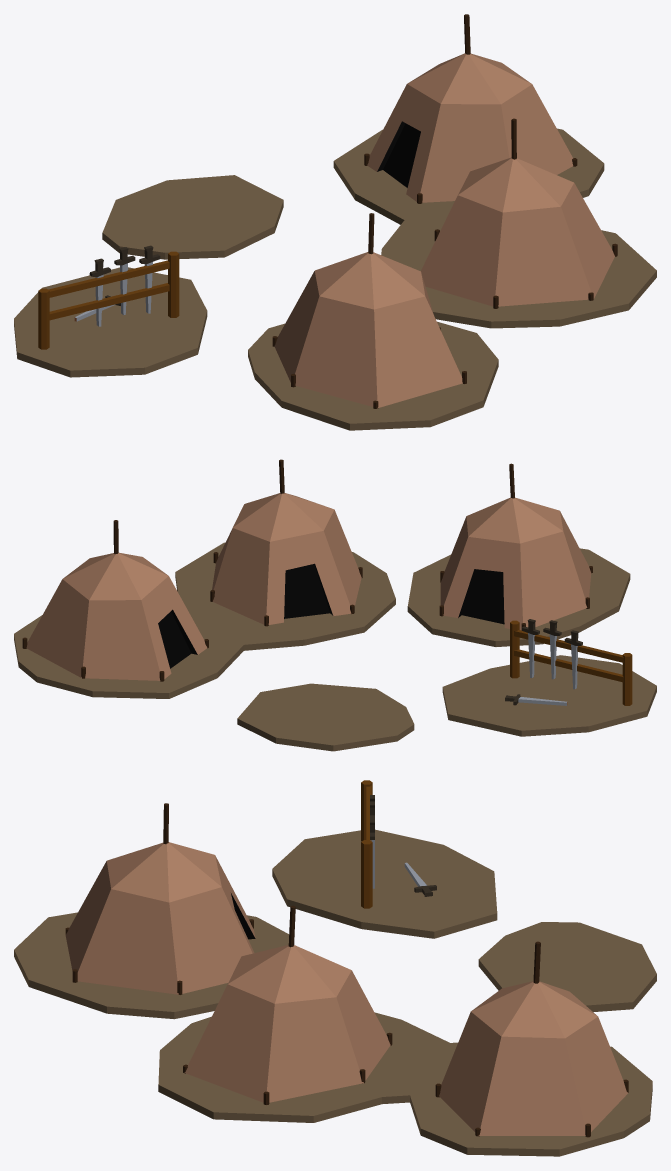
Rendered from BarracksFinal2.fbx.
The picture shows the model from 3 angles, top to bottom: view 1: azimuth 30°, elevation 25°; view 2: azimuth 150°, elevation 25°; view 3: azimuth 270°, elevation 25°; orthographic projection. The views are drawn at different scales.
Parts seen in each view (by area): view 1: Plane.005; view 2: Plane.005; view 3: Plane.005.
Part boxes in pixels (bbox=[...]): Plane.005: bbox=[14, 14, 656, 430]; Plane.005: bbox=[14, 459, 656, 751]; Plane.005: bbox=[14, 780, 656, 1156].
Bounding box in the file's own units: 91.9 × 21.75 × 77.85.
